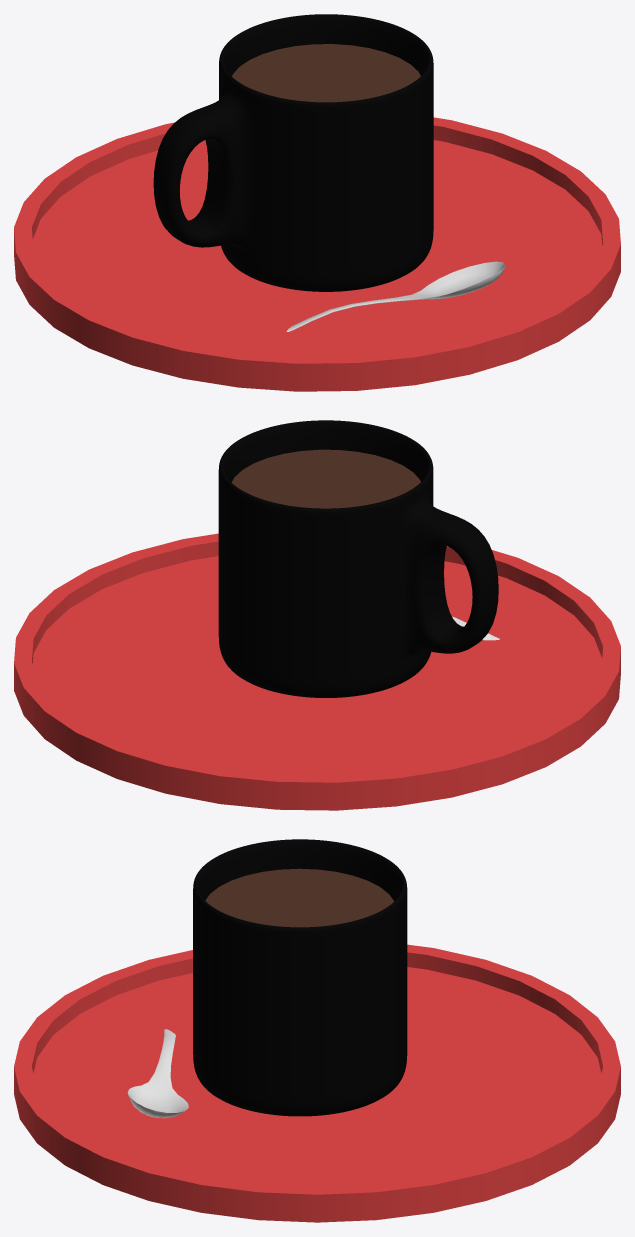
File: kopiNew.gltf
The picture shows the model from 3 angles, top to bottom: view 1: azimuth 30°, elevation 25°; view 2: azimuth 150°, elevation 25°; view 3: azimuth 270°, elevation 25°; orthographic projection.
Parts seen in each view (by area): view 1: Circle.001, Cylinder, Cylinder.001, Circle.002; view 2: Circle.001, Cylinder, Cylinder.001; view 3: Circle.001, Cylinder, Cylinder.001, Circle.002.
Part boxes in pixels (left/top/right/bottom): Circle.001: left=14, top=117, right=620, bottom=391; Cylinder: left=153, top=14, right=433, bottom=291; Cylinder.001: left=232, top=44, right=420, bottom=102; Circle.002: left=286, top=261, right=504, bottom=331; Circle.001: left=14, top=533, right=620, bottom=810; Cylinder: left=218, top=420, right=498, bottom=697; Cylinder.001: left=231, top=449, right=420, bottom=508; Circle.001: left=14, top=944, right=620, bottom=1222; Cylinder: left=193, top=839, right=407, bottom=1116; Cylinder.001: left=205, top=868, right=393, bottom=927; Circle.002: left=127, top=1029, right=188, bottom=1118.
Size of the model in its own units: 3.29 by 1.26 by 3.29.
